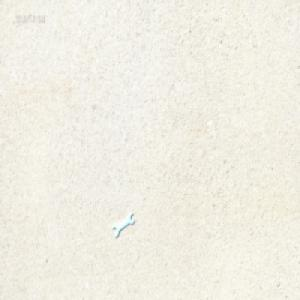Wrench: (112, 213, 134, 239)
